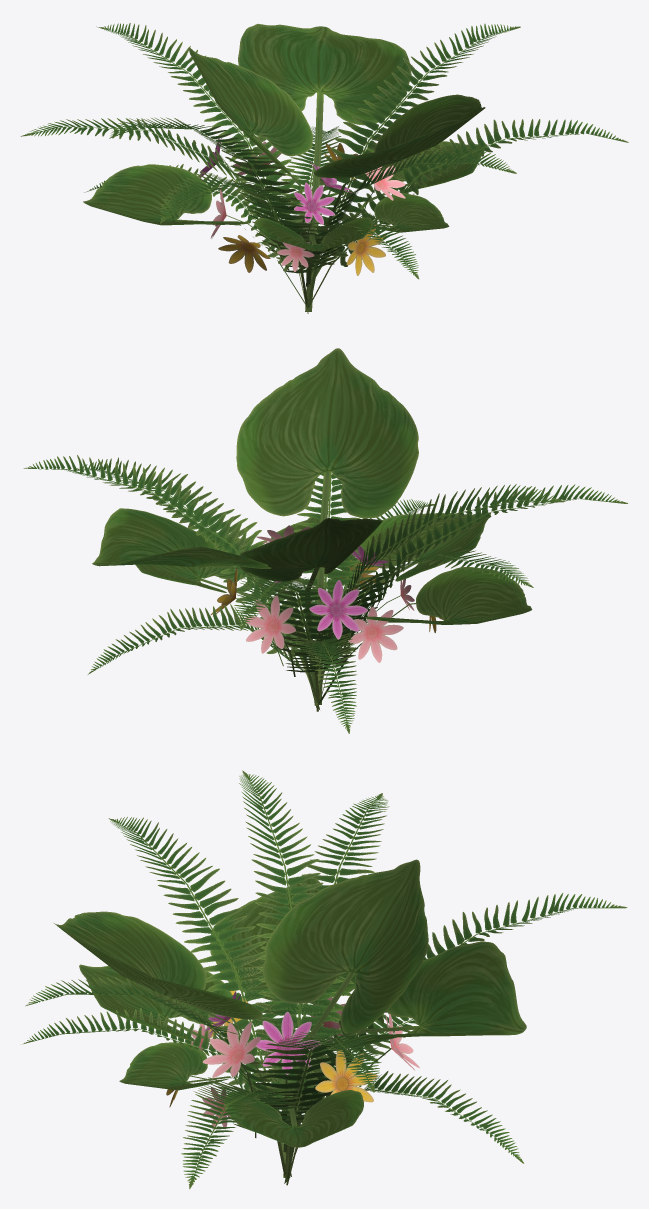
File: SM_Buddha_Plant_02.fbx
The picture shows the model from 3 angles, top to bottom: view 1: azimuth 30°, elevation 25°; view 2: azimuth 150°, elevation 25°; view 3: azimuth 270°, elevation 25°; orthographic projection. The views are drawn at different scales.
Visible parts, largest first — view 1: SM_Buddha_Plant_02; view 2: SM_Buddha_Plant_02; view 3: SM_Buddha_Plant_02.
Boxes of the visible parts, x1,y1,x2,y2 form: SM_Buddha_Plant_02: (20, 23, 628, 313); SM_Buddha_Plant_02: (23, 348, 627, 733); SM_Buddha_Plant_02: (22, 770, 627, 1189).
Bounding box in the file's own units: 64.95 × 54.61 × 30.26.
Materials: 1 (1 with a texture image).
